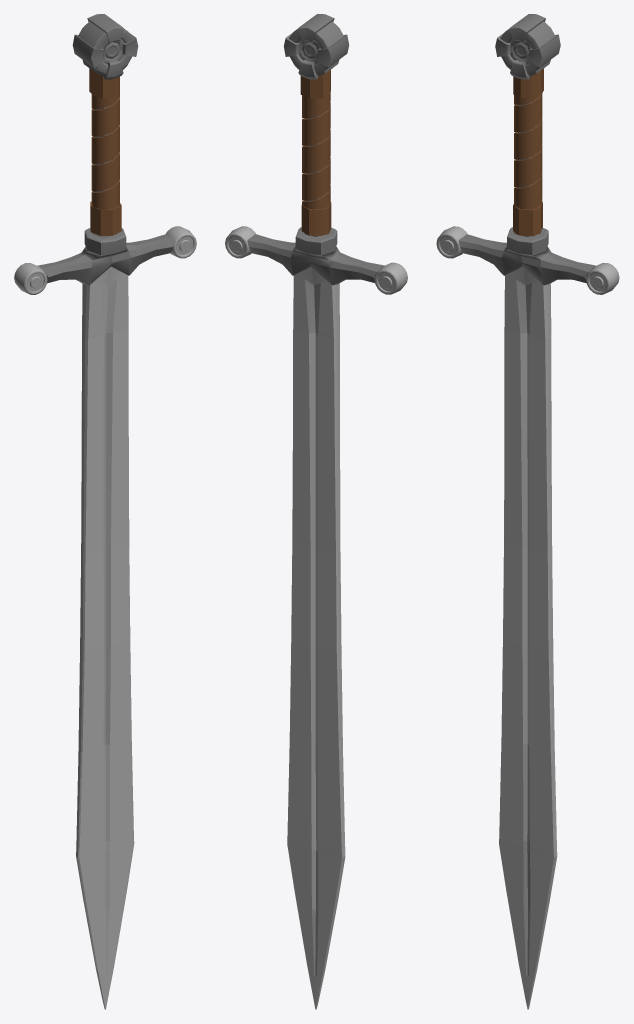
The model's file is sword.fbx.
3 views of the same model, side by side, from view 1: azimuth 30°, elevation 25°; view 2: azimuth 150°, elevation 25°; view 3: azimuth 330°, elevation 25° (orthographic).
Visible parts, largest first — view 1: sword_blade, sword_leather, sword_metal, sword_gold, sword_golden1, sword_golden; view 2: sword_blade, sword_leather, sword_metal, sword_gold, sword_golden1, sword_golden; view 3: sword_blade, sword_leather, sword_metal, sword_gold, sword_golden, sword_golden1.
Part boxes in pixels (box(x1,y1,x2,y2)): sword_blade: box(76, 266, 134, 1009); sword_leather: box(89, 68, 121, 235); sword_metal: box(37, 105, 174, 285); sword_gold: box(72, 14, 138, 79); sword_golden1: box(14, 263, 47, 294); sword_golden: box(166, 226, 196, 258); sword_blade: box(287, 266, 345, 1009); sword_leather: box(300, 69, 331, 235); sword_metal: box(247, 113, 384, 285); sword_gold: box(283, 14, 349, 79); sword_golden1: box(374, 262, 407, 294); sword_golden: box(225, 226, 255, 258); sword_blade: box(499, 266, 557, 1009); sword_leather: box(513, 68, 543, 236); sword_metal: box(458, 98, 595, 285); sword_gold: box(495, 14, 560, 79); sword_golden: box(586, 263, 619, 294); sword_golden1: box(436, 226, 467, 258).
Size of the model in its own units: 9.93 by 53.5 by 1.97.
